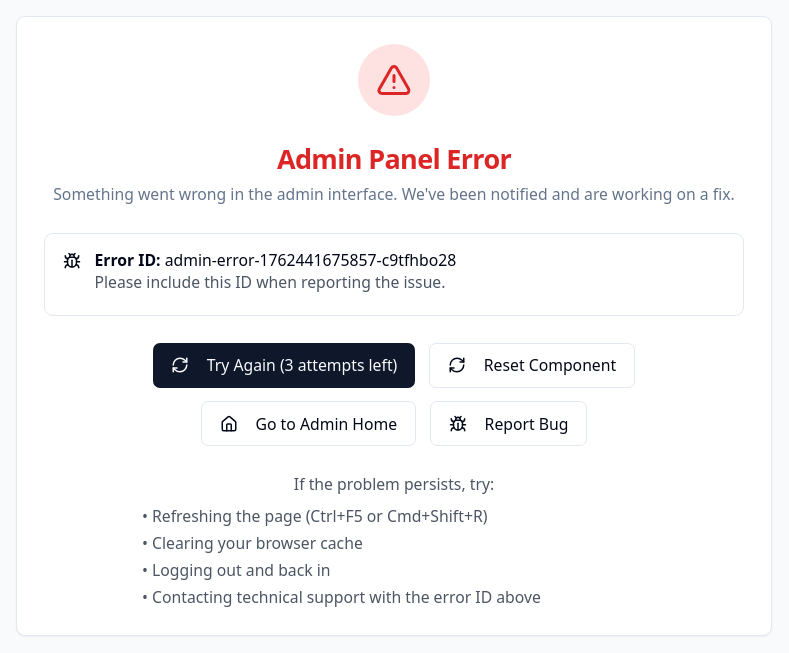
Test case: AdminErrorBoundary › decreases retry count with each attempt
# Click retry
Click the button "Try Again (3 attempts left)": (284, 365) left=153, top=343, right=415, bottom=388
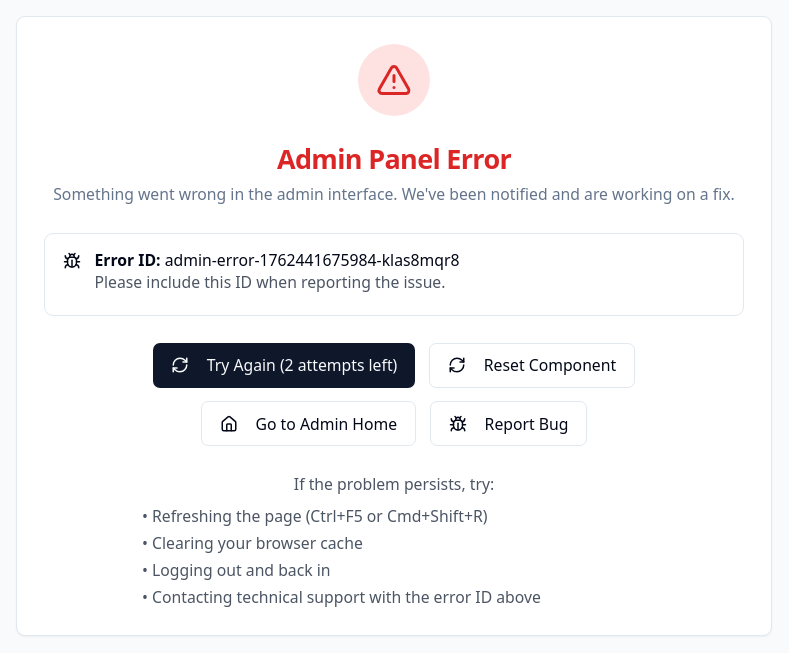
Result: the button "Try Again (2 attempts left)" is shown at left=153, top=343, right=415, bottom=388
